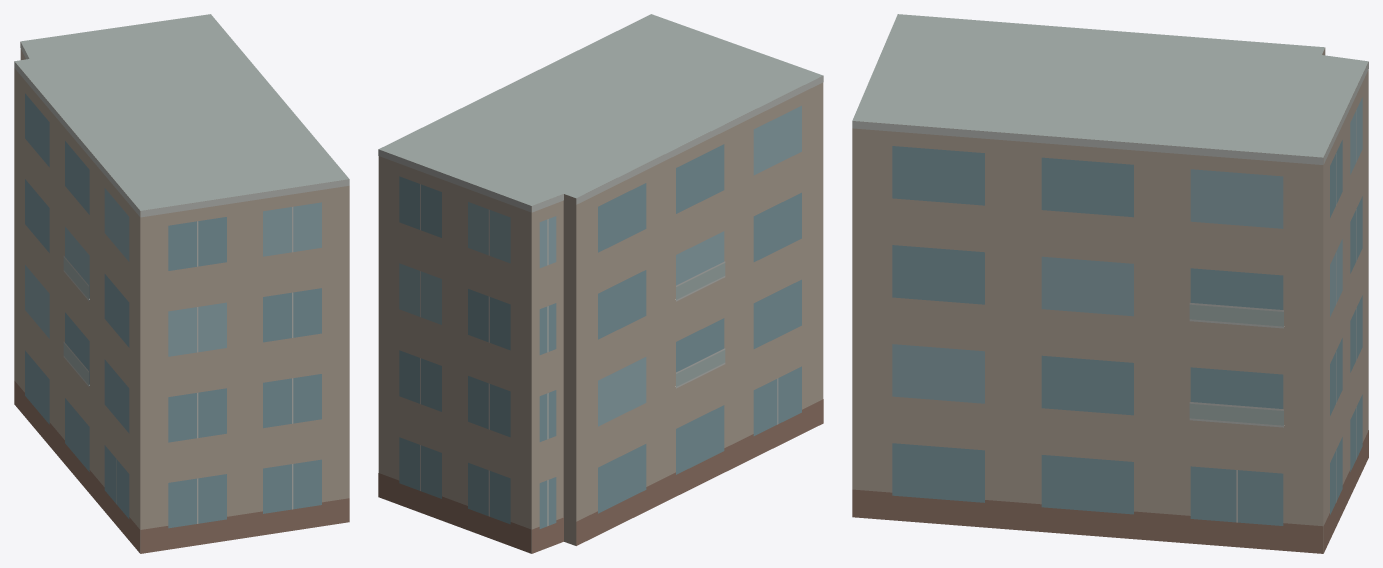
The model's file is survey-upis-32646395.glb.
3 views of the same model, side by side, from view 1: azimuth 30°, elevation 25°; view 2: azimuth 150°, elevation 25°; view 3: azimuth 270°, elevation 25° (orthographic). The views are drawn at different scales.
Visible parts, largest first — view 1: survey-upis-32646395.tmp; view 2: survey-upis-32646395.tmp; view 3: survey-upis-32646395.tmp.
Part boxes in pixels (bbox=[...]): survey-upis-32646395.tmp: bbox=[14, 14, 349, 553]; survey-upis-32646395.tmp: bbox=[378, 14, 823, 553]; survey-upis-32646395.tmp: bbox=[852, 14, 1368, 553].
Bounding box in the file's own units: 9.95 × 12.8 × 15.13.
